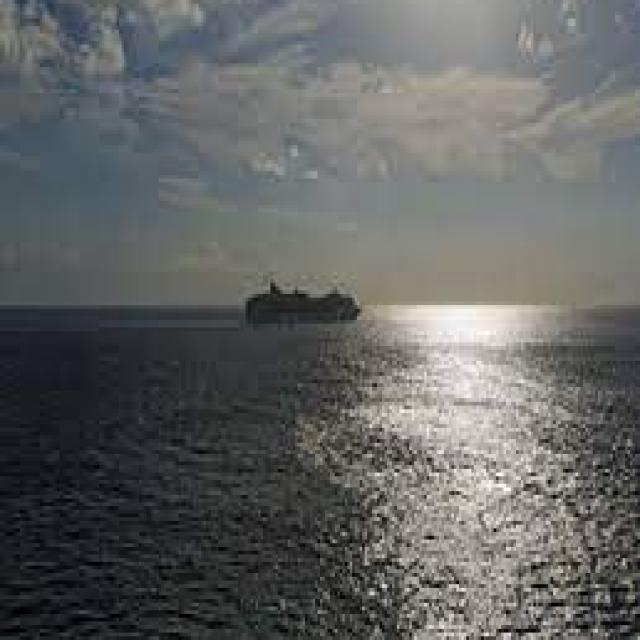cargoship: (235, 242, 371, 342)
